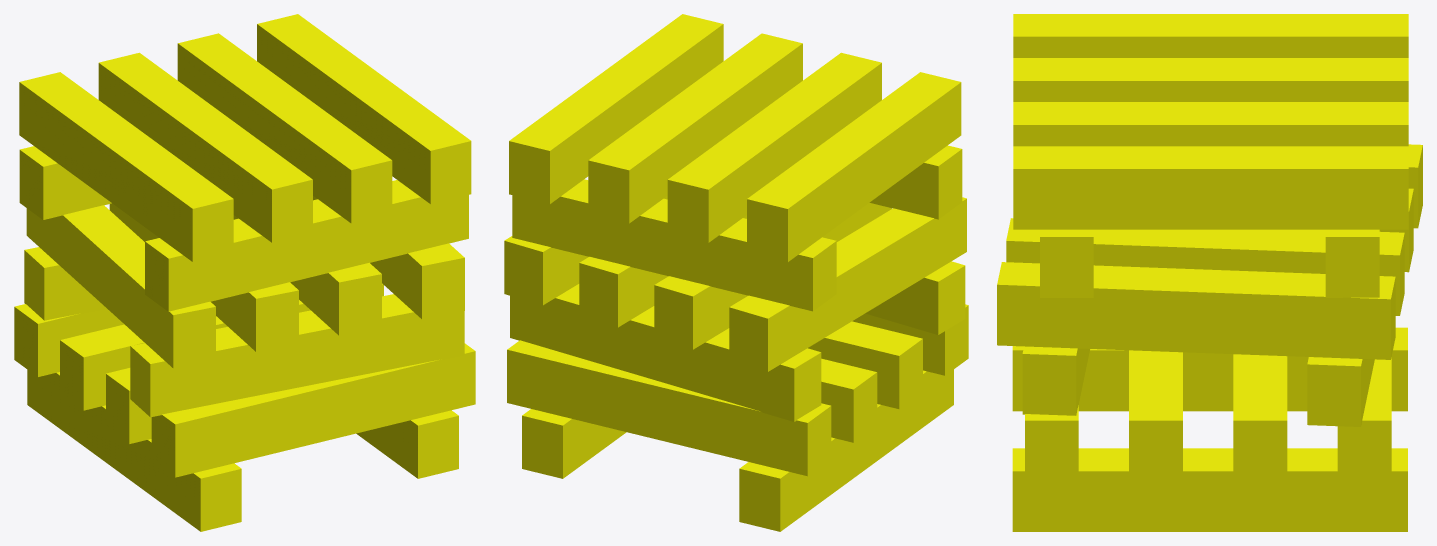
Rendered from market_pallete.glb.
3 views of the same model, side by side, from view 1: azimuth 30°, elevation 25°; view 2: azimuth 150°, elevation 25°; view 3: azimuth 270°, elevation 25° (orthographic). The views are drawn at different scales.
Visible parts, largest first — view 1: market_pallete; view 2: market_pallete; view 3: market_pallete.
Part boxes in pixels (x1=…): market_pallete: x1=14, y1=14, x2=475, y2=531; market_pallete: x1=504, y1=14, x2=968, y2=531; market_pallete: x1=997, y1=14, x2=1422, y2=531.
Bounding box in the file's own units: 0.8869 × 0.8553 × 0.8918.
1 material, 1 textured.
